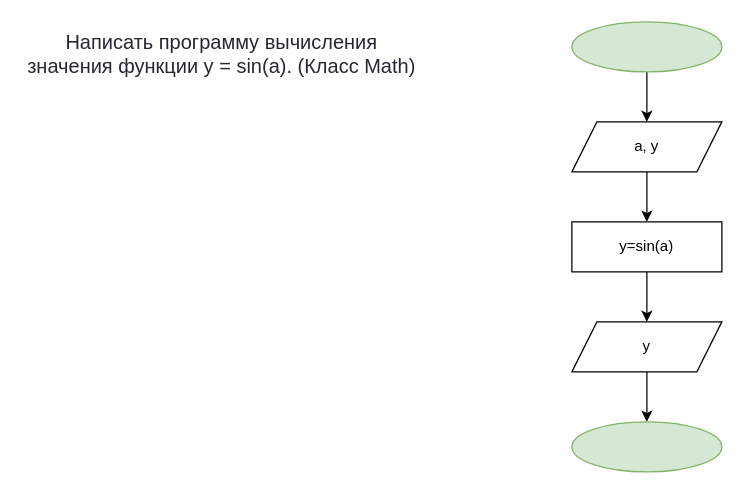
Some shapes in this 744 by 494 pixel diagram are drawn without their labels. Each missing label, with the centre of its shape:
"Fiinish" goes at point (646, 446).
"Start" goes at point (646, 46).
